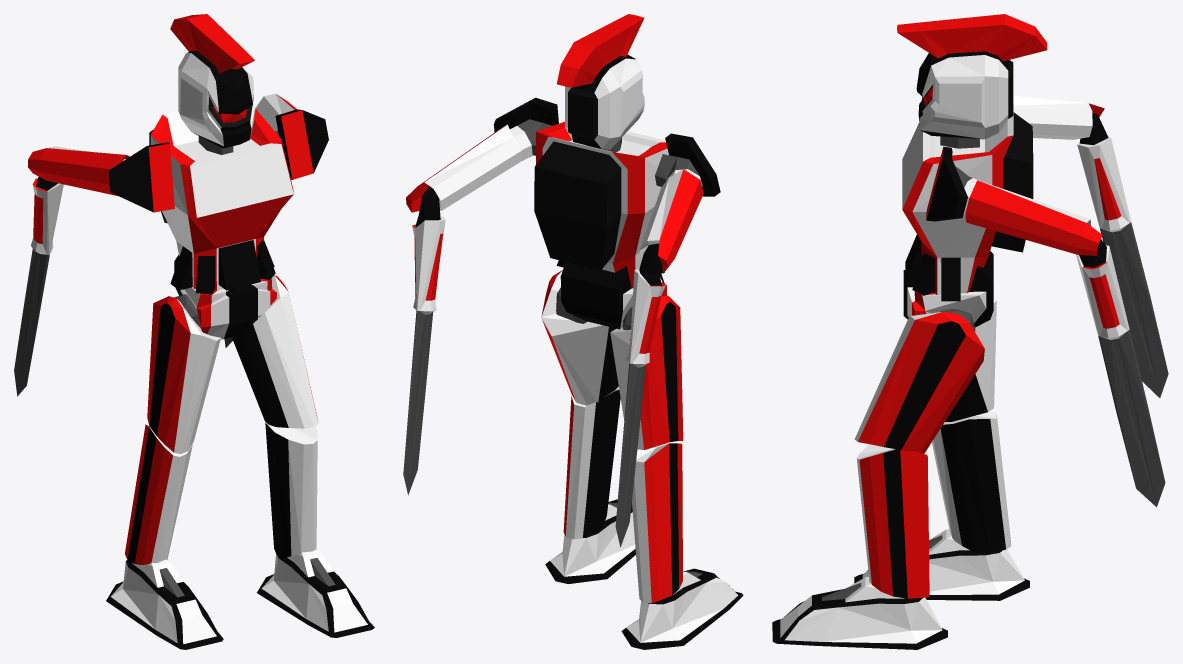
File: robots_000008.obj
The picture shows the model from 3 angles, left to right: view 1: azimuth 30°, elevation 25°; view 2: azimuth 150°, elevation 25°; view 3: azimuth 270°, elevation 25°; orthographic projection. The views are drawn at different scales.
Parts seen in each view (by area): view 1: Chest_plate_Cube.004, Head_gladiator_Cube.024, R_Thigh_Cube.005, R_Forearm.001_Cube.028, R_Thigh.002_Cube.027, R_Shin.002_Cube.029, R_Foot_Cube, R_Foot.002_Cube.035, R_Shin_Cube.007, Pelvis_Cube.006, R_Arm.002_Cube.032, R_Arm.003_Cube.034 (+1 smaller); view 2: Chest_plate_Cube.004, R_Forearm.002_Cube.033, R_Forearm.001_Cube.028, Head_gladiator_Cube.024, R_Shin_Cube.007, R_Shin.002_Cube.029, R_Thigh_Cube.005, R_Foot_Cube, R_Thigh.002_Cube.027, R_Foot.002_Cube.035, Pelvis_Cube.006, R_Arm.002_Cube.032 (+1 smaller); view 3: R_Forearm.002_Cube.033, Chest_plate_Cube.004, Head_gladiator_Cube.024, R_Thigh.002_Cube.027, R_Forearm.001_Cube.028, R_Shin.002_Cube.029, R_Foot.002_Cube.035, R_Shin_Cube.007, R_Foot_Cube, Pelvis_Cube.006, R_Thigh_Cube.005, R_Arm.003_Cube.034.
Part boxes in pixels (bbox=[...]): Chest_plate_Cube.004: bbox=[149, 109, 293, 294]; Head_gladiator_Cube.024: bbox=[170, 14, 255, 148]; R_Thigh_Cube.005: bbox=[147, 296, 220, 453]; R_Forearm.001_Cube.028: bbox=[14, 146, 129, 396]; R_Thigh.002_Cube.027: bbox=[232, 275, 318, 428]; R_Shin.002_Cube.029: bbox=[265, 421, 317, 558]; R_Foot_Cube: bbox=[106, 559, 223, 649]; R_Foot.002_Cube.035: bbox=[257, 549, 374, 637]; R_Shin_Cube.007: bbox=[125, 424, 192, 564]; Pelvis_Cube.006: bbox=[174, 255, 276, 339]; R_Arm.002_Cube.032: bbox=[108, 142, 174, 212]; R_Arm.003_Cube.034: bbox=[275, 109, 328, 179]; Chest_plate_Cube.004: bbox=[534, 121, 668, 288]; R_Forearm.002_Cube.033: bbox=[403, 124, 522, 495]; R_Forearm.001_Cube.028: bbox=[615, 169, 703, 547]; Head_gladiator_Cube.024: bbox=[557, 14, 644, 149]; R_Shin_Cube.007: bbox=[632, 443, 682, 603]; R_Shin.002_Cube.029: bbox=[563, 386, 620, 539]; R_Thigh_Cube.005: bbox=[610, 295, 683, 449]; R_Foot_Cube: bbox=[621, 568, 743, 649]; R_Thigh.002_Cube.027: bbox=[541, 270, 618, 405]; R_Foot.002_Cube.035: bbox=[545, 499, 635, 583]; Pelvis_Cube.006: bbox=[560, 262, 666, 329]; R_Arm.002_Cube.032: bbox=[655, 133, 720, 196]; R_Forearm.002_Cube.033: bbox=[965, 180, 1165, 507]; Chest_plate_Cube.004: bbox=[902, 103, 1033, 301]; Head_gladiator_Cube.024: bbox=[897, 14, 1047, 139]; R_Thigh.002_Cube.027: bbox=[854, 312, 984, 453]; R_Forearm.001_Cube.028: bbox=[1013, 96, 1168, 397]; R_Shin.002_Cube.029: bbox=[856, 444, 929, 598]; R_Foot.002_Cube.035: bbox=[772, 576, 947, 649]; R_Shin_Cube.007: bbox=[932, 408, 1011, 552]; R_Foot_Cube: bbox=[854, 529, 1029, 600]; Pelvis_Cube.006: bbox=[903, 251, 993, 327]; R_Thigh_Cube.005: bbox=[945, 292, 996, 421]; R_Arm.003_Cube.034: bbox=[926, 146, 981, 221].
Bounding box in the file's own units: 1.51 × 3.19 × 1.91.
